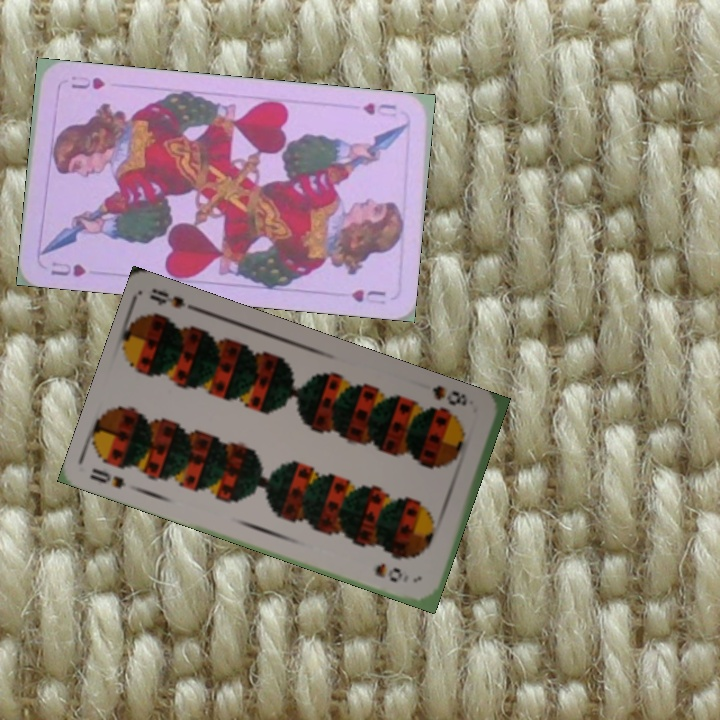HU: (46, 258, 88, 279), (359, 98, 399, 120)
S8: (428, 381, 470, 409), (85, 464, 128, 491)
